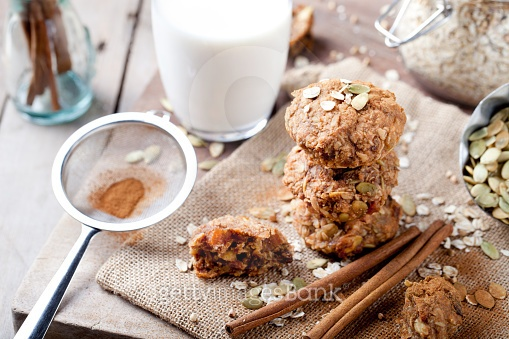glass of milk: (147, 1, 294, 142)
